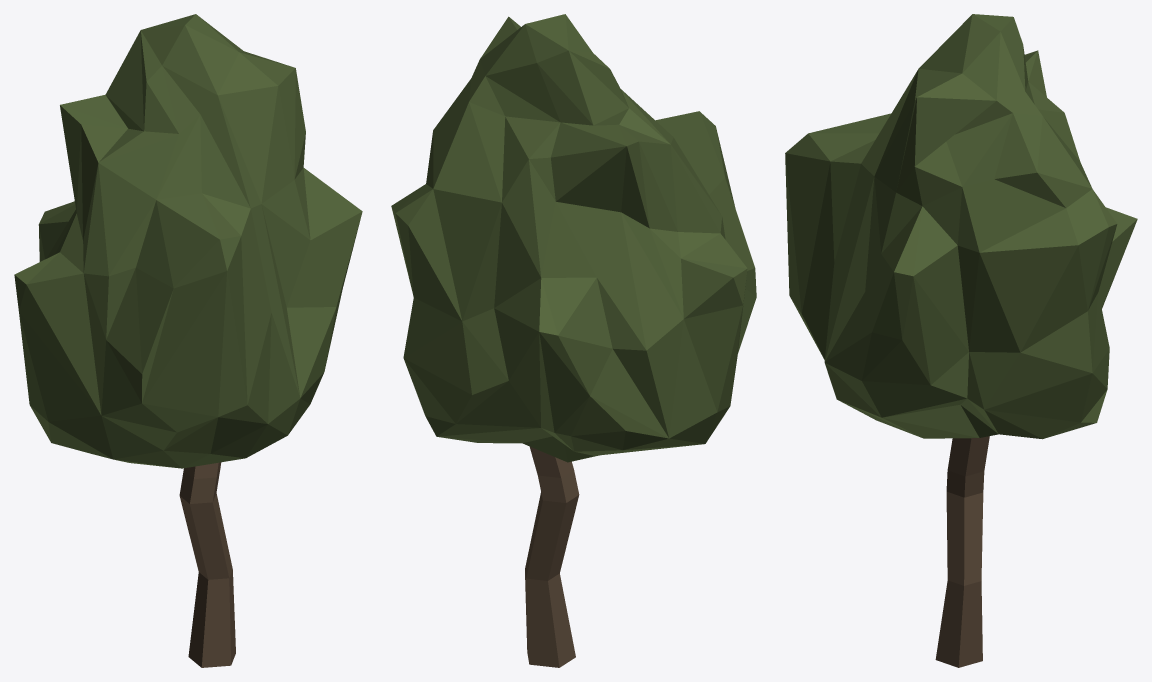
File: Tree_069.fbx
3 views of the same model, side by side, from view 1: azimuth 30°, elevation 25°; view 2: azimuth 150°, elevation 25°; view 3: azimuth 270°, elevation 25° (orthographic). The views are drawn at different scales.
Visible parts, largest first — view 1: Tree_069; view 2: Tree_069; view 3: Tree_069.
Boxes of the visible parts, bbox=[...] form: Tree_069: bbox=[14, 14, 362, 667]; Tree_069: bbox=[391, 14, 756, 667]; Tree_069: bbox=[785, 14, 1137, 667].
Size of the model in its own units: 0.9386 by 1.85 by 0.9345.
1 material, 1 textured.
